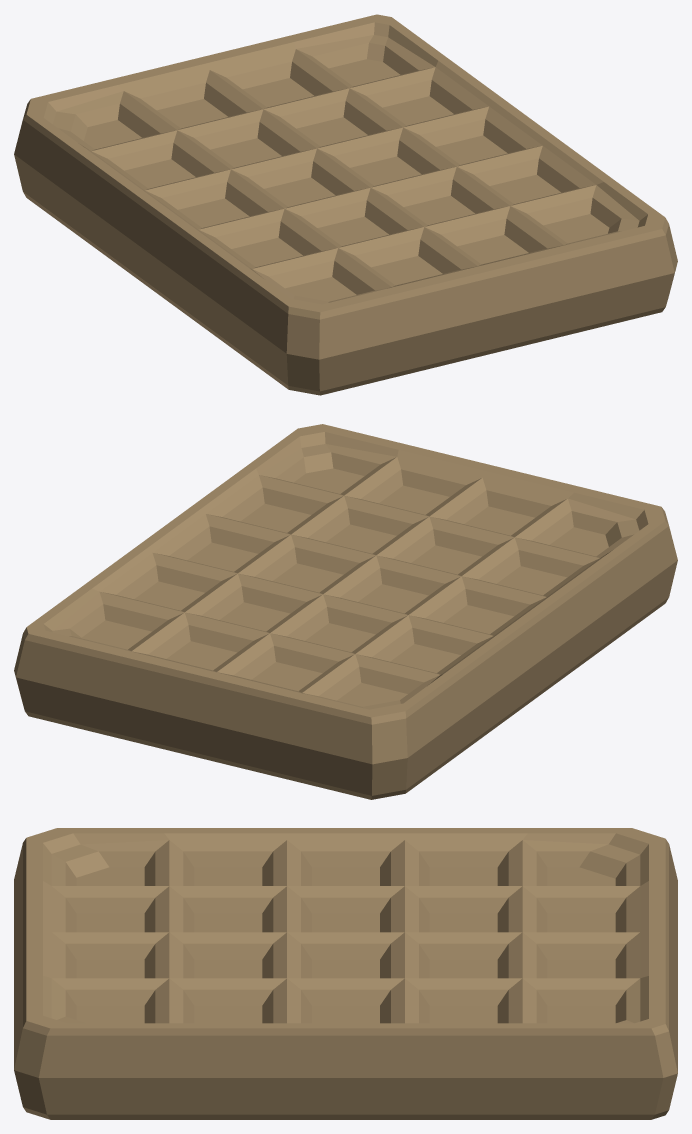
The picture shows the model from 3 angles, top to bottom: view 1: azimuth 30°, elevation 25°; view 2: azimuth 150°, elevation 25°; view 3: azimuth 270°, elevation 25°; orthographic projection. The views are drawn at different scales.
Visible parts, largest first — view 1: mesh_0; view 2: mesh_0; view 3: mesh_0.
Boxes of the visible parts, x1,y1,x2,y2 form: mesh_0: [14, 14, 677, 395]; mesh_0: [14, 424, 677, 799]; mesh_0: [14, 828, 677, 1119].
Bounding box in the file's own units: 1.13 × 0.2322 × 1.53.
